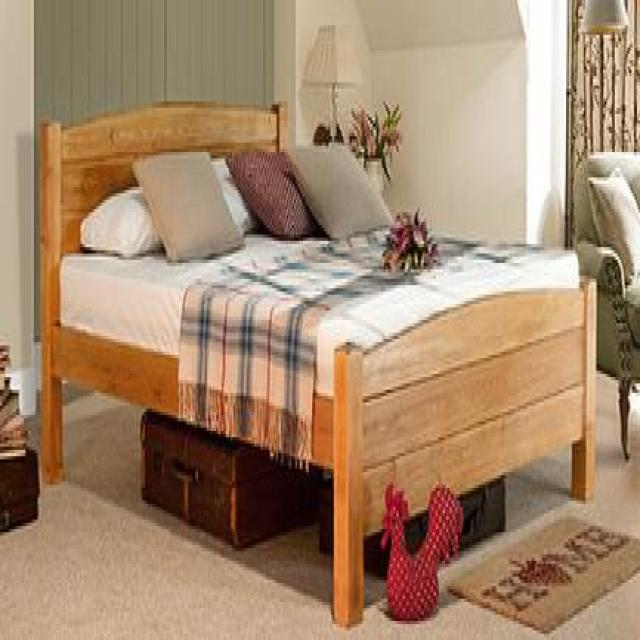bed: (39, 98, 597, 628)
chair: (572, 149, 639, 459)
